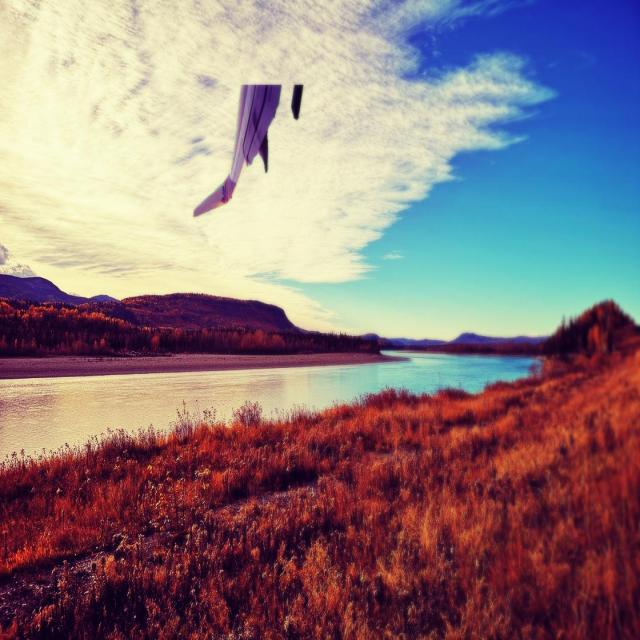airplane: (193, 82, 303, 217)
